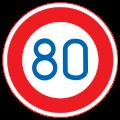Speed Limit -80-: (31, 34, 90, 84)
